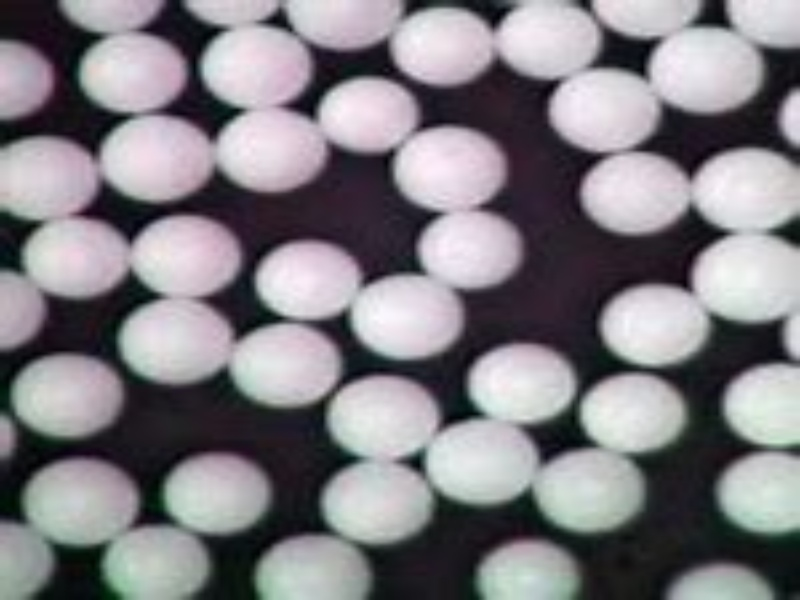bead: (19, 453, 145, 554), (648, 22, 772, 119), (322, 370, 448, 464), (530, 442, 654, 537), (117, 295, 237, 390), (390, 124, 511, 218), (6, 350, 131, 440), (597, 278, 716, 372), (573, 366, 697, 456), (229, 318, 350, 410), (576, 145, 693, 240), (350, 271, 470, 363), (99, 113, 217, 205), (464, 337, 582, 429), (317, 458, 440, 546), (159, 448, 283, 535), (430, 416, 546, 509), (215, 106, 332, 198), (690, 229, 800, 326), (547, 64, 664, 155), (690, 141, 800, 236), (132, 213, 248, 299), (196, 25, 317, 107), (249, 237, 366, 321), (491, 1, 606, 86), (22, 214, 134, 300), (416, 209, 529, 294), (74, 31, 191, 113), (98, 521, 217, 600), (248, 532, 389, 598), (387, 6, 495, 89), (1, 134, 103, 220), (320, 73, 422, 156), (710, 448, 800, 541), (473, 535, 604, 597), (716, 358, 800, 449), (276, 1, 405, 53), (1, 34, 57, 124)
